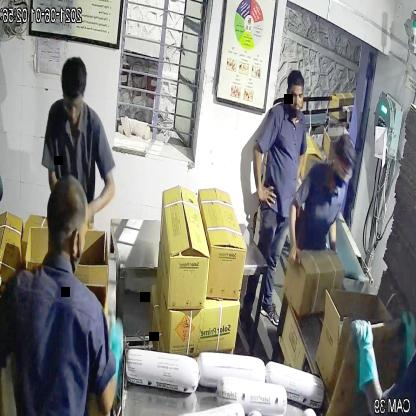no_goggles: (284, 86, 308, 108)
